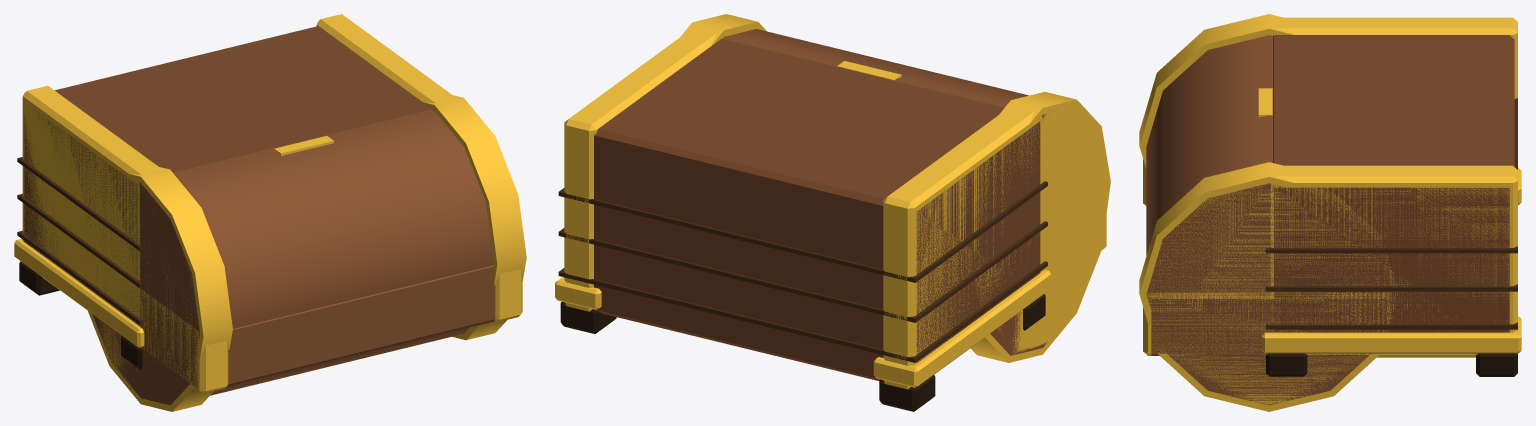
Rendered from chest_wood.glb.
The picture shows the model from 3 angles, left to right: view 1: azimuth 30°, elevation 25°; view 2: azimuth 150°, elevation 25°; view 3: azimuth 270°, elevation 25°; orthographic projection. The views are drawn at different scales.
Parts seen in each view (by area): view 1: lid_8a5430, body_7a4a2a, body_ffc83a, lid_ffc83a, body_4a2c16, body_2a1a0e; view 2: body_7a4a2a, body_ffc83a, lid_ffc83a, body_4a2c16, lid_8a5430, body_2a1a0e; view 3: body_7a4a2a, lid_8a5430, body_ffc83a, lid_ffc83a, body_4a2c16, body_2a1a0e.
Boxes of the visible parts, x1,y1,x2,y2 form: lid_8a5430: (88,110,495,405); body_7a4a2a: (24,26,432,278); body_ffc83a: (14,14,455,347); lid_ffc83a: (82,95,526,411); body_4a2c16: (17,157,142,324); body_2a1a0e: (19,261,142,369); body_7a4a2a: (594,38,1040,380); body_ffc83a: (555,27,1051,389); lid_ffc83a: (680,14,1110,362); body_4a2c16: (558,181,1047,362); lid_8a5430: (723,29,1047,355); body_2a1a0e: (560,294,1045,411); body_7a4a2a: (1273,35,1514,353); lid_8a5430: (1146,35,1391,405); body_ffc83a: (1258,17,1521,357); lid_ffc83a: (1139,14,1397,411); body_4a2c16: (1265,98,1517,329); body_2a1a0e: (1266,353,1517,376).
Bounding box in the file's own units: 1.14 × 0.74 × 1.09.
